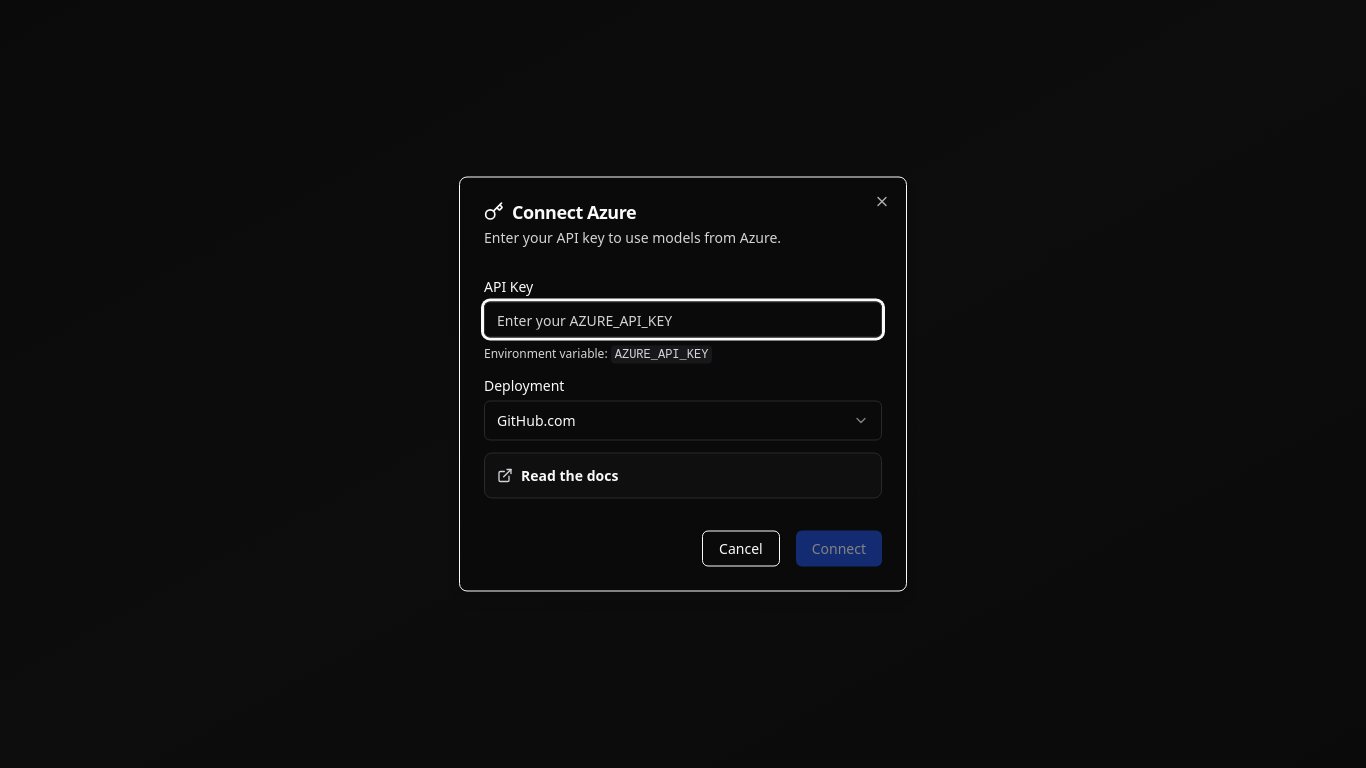
Test: ApiKeyDialog › keeps Connect enabled while a conditional required field is hidden and renders external fields
In the password field labelled "API Key": (683, 320) 484,302 -> 882,338, type "az-test"
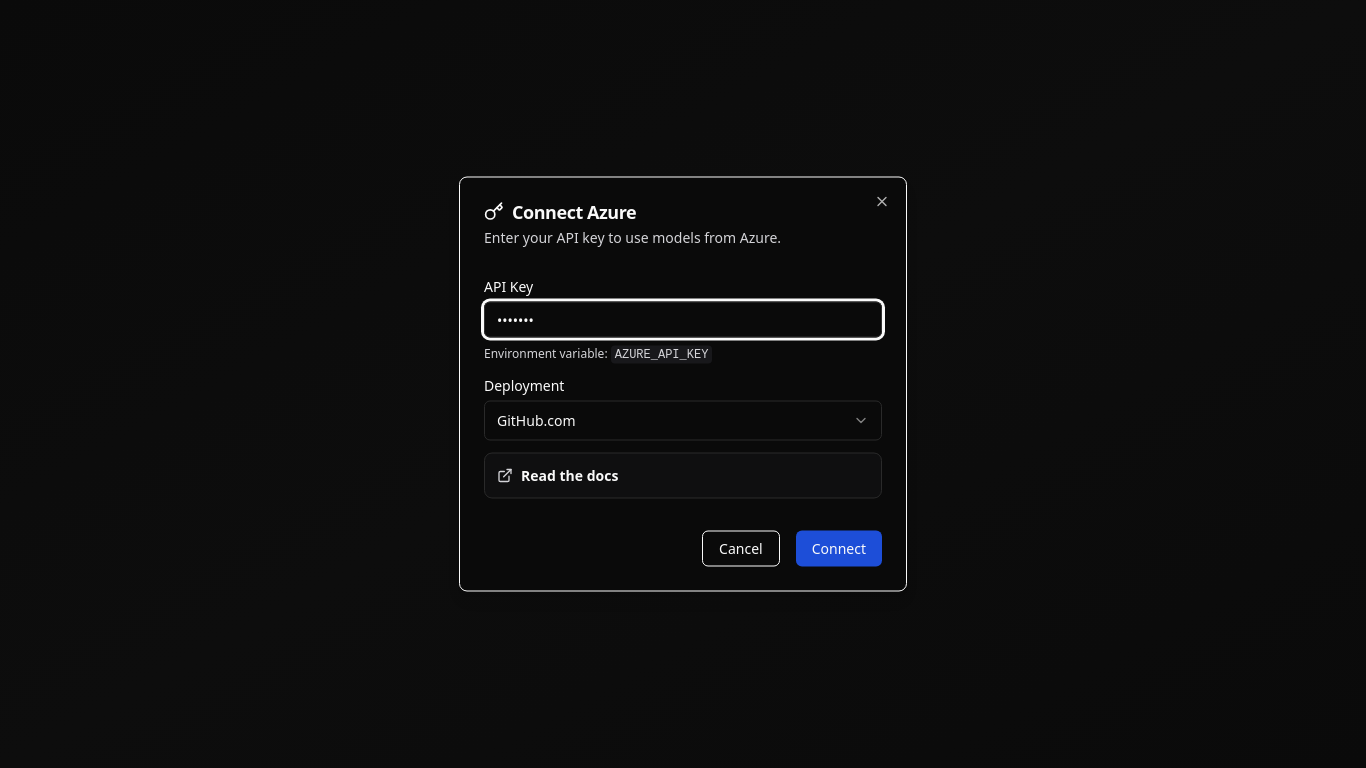
Now the button "Connect" is enabled, box 796,530 -> 882,566
